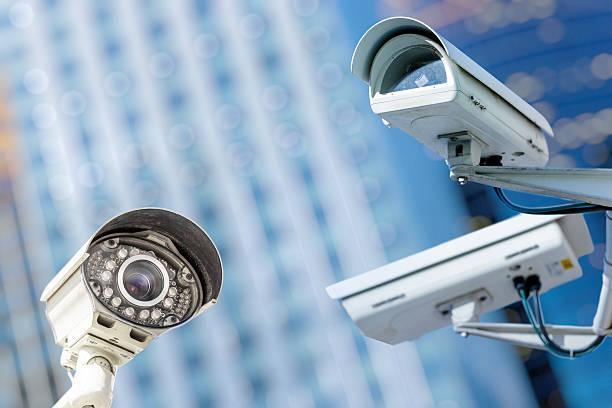camera: (318, 174, 597, 386), (323, 2, 589, 186), (35, 180, 244, 408)
